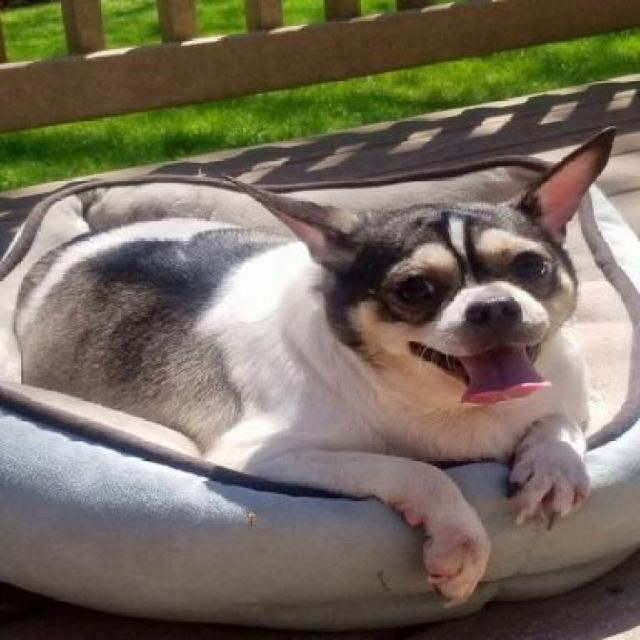Dog: (16, 128, 622, 612)
